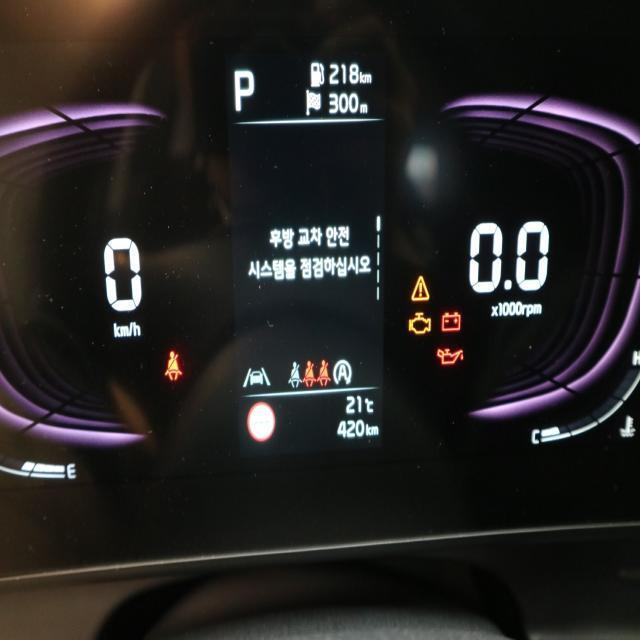Central Warning lamp: (410, 274, 428, 302)
